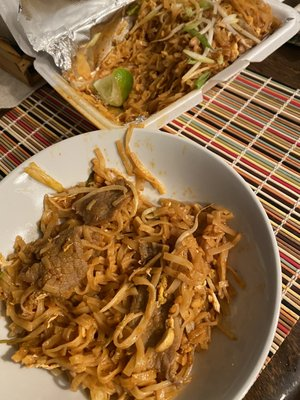sushi: (0, 126, 282, 400), (91, 126, 283, 398)
